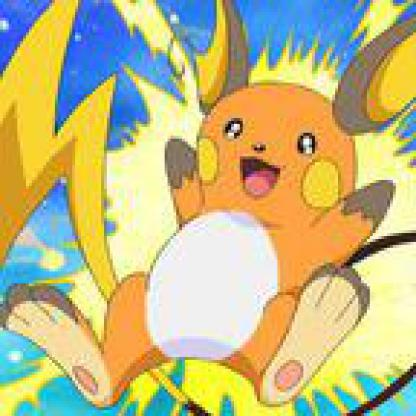Raichu: (1, 1, 414, 414)
